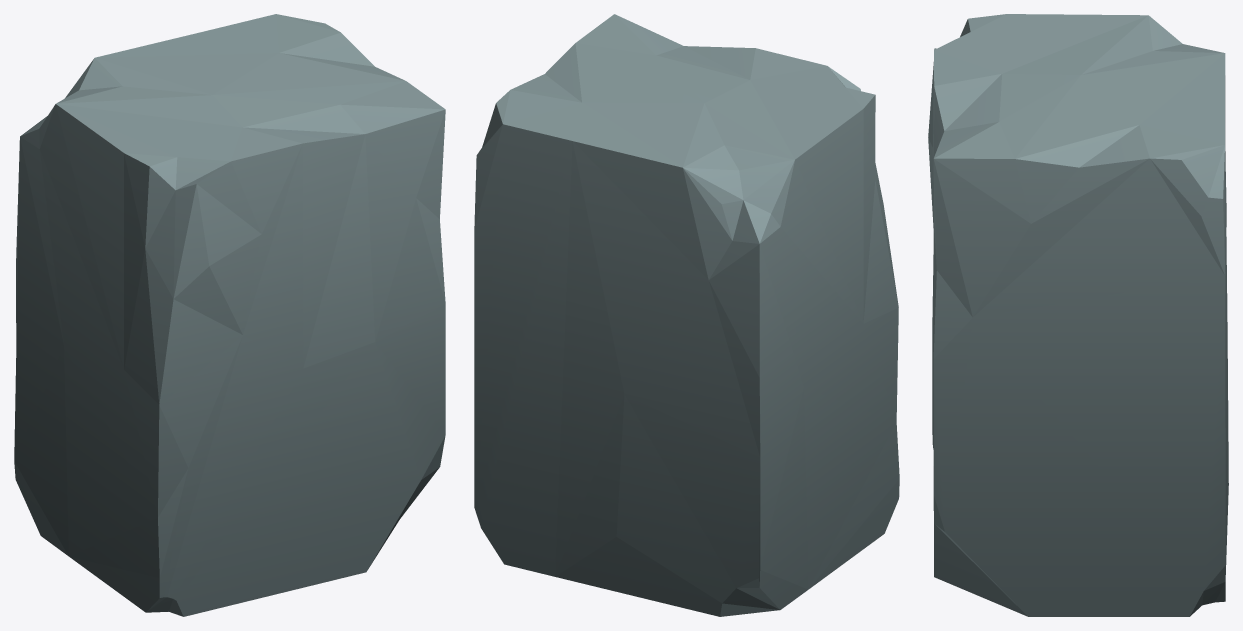
File: BigRock_05.fbx
The picture shows the model from 3 angles, left to right: view 1: azimuth 30°, elevation 25°; view 2: azimuth 150°, elevation 25°; view 3: azimuth 270°, elevation 25°; orthographic projection. The views are drawn at different scales.
Visible parts, largest first — view 1: BigRock_05; view 2: BigRock_05; view 3: BigRock_05.
Part boxes in pixels (left/top/right/bottom): BigRock_05: left=14, top=14, right=445, bottom=616; BigRock_05: left=474, top=14, right=899, bottom=616; BigRock_05: left=928, top=14, right=1228, bottom=616.
Bounding box in the file's own units: 3.01 × 4.4 × 2.6.
